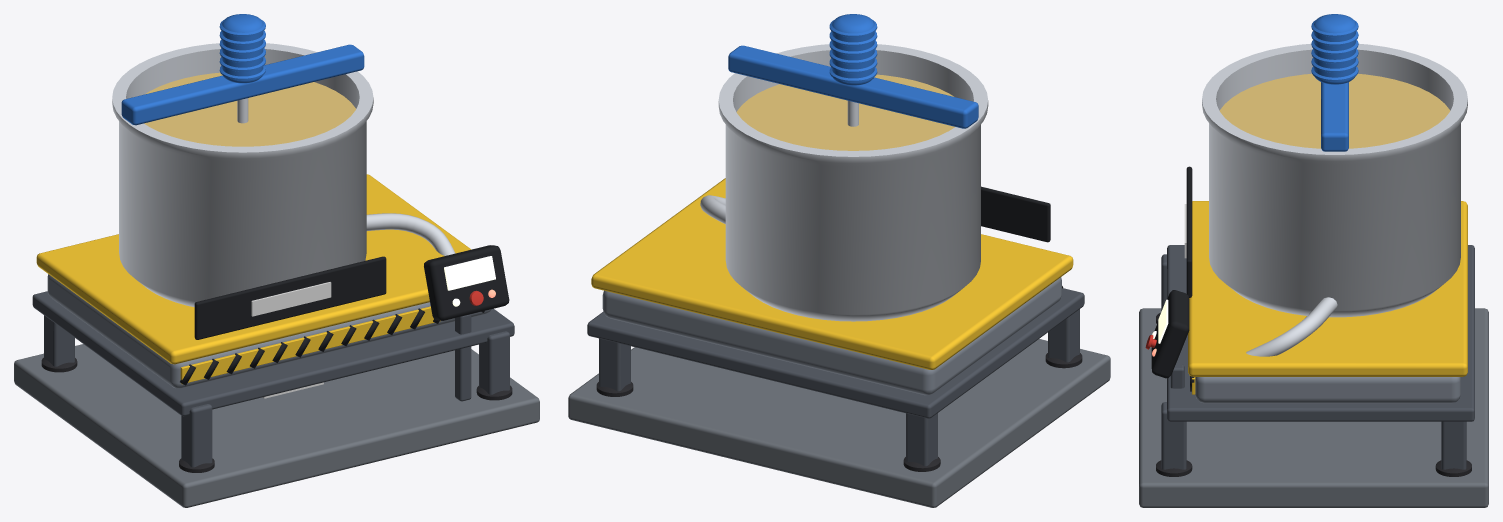
File: PureeVat.fbx
3 renders of one model, left to right at view 1: azimuth 30°, elevation 25°; view 2: azimuth 150°, elevation 25°; view 3: azimuth 270°, elevation 25°, orthographic. The views are drawn at different scales.
Visible parts, largest first — view 1: Body__Chrome, Body__Plate, Body__Yellow, Body__MetalDark, Body__Black, Body__Blue, Body__Straw, Body__Steel, Body__NeonYellow!1, Body__NeonGreen, Body__Rubber; view 2: Body__Chrome, Body__Plate, Body__Yellow, Body__MetalDark, Body__Steel, Body__Blue, Body__Straw, Body__Black, Body__Rubber; view 3: Body__Chrome, Body__Plate, Body__Yellow, Body__MetalDark, Body__Straw, Body__Steel, Body__Blue, Body__Black, Body__Rubber.
Part boxes in pixels (x1,y1,x2,y2): Body__Chrome: (112,43,455,307); Body__Plate: (14,344,539,507); Body__Yellow: (36,174,470,384); Body__MetalDark: (32,291,514,467); Body__Black: (180,245,509,385); Body__Blue: (121,14,364,125); Body__Straw: (144,72,355,146); Body__Steel: (47,274,491,388); Body__NeonYellow!1: (251,282,331,316); Body__NeonGreen: (444,256,495,306); Body__Rubber: (41,357,512,472); Body__Chrome: (700,44,988,321); Body__Plate: (568,339,1110,507); Body__Yellow: (591,178,1073,369); Body__MetalDark: (587,288,1084,466); Body__Steel: (602,277,1061,395); Body__Blue: (728,14,978,128); Body__Straw: (736,74,954,150); Body__Black: (981,186,1063,288); Body__Rubber: (596,353,1082,471); Body__Chrome: (1202,43,1467,356); Body__Plate: (1139,308,1488,507); Body__Yellow: (1188,201,1467,394); Body__MetalDark: (1161,245,1474,469); Body__Straw: (1220,73,1449,148); Body__Steel: (1195,377,1460,403); Body__Blue: (1311,14,1358,151); Body__Black: (1151,166,1194,391); Body__Rubber: (1156,312,1471,476).
Bounding box in the file's own units: 6 × 6.64 × 5.
